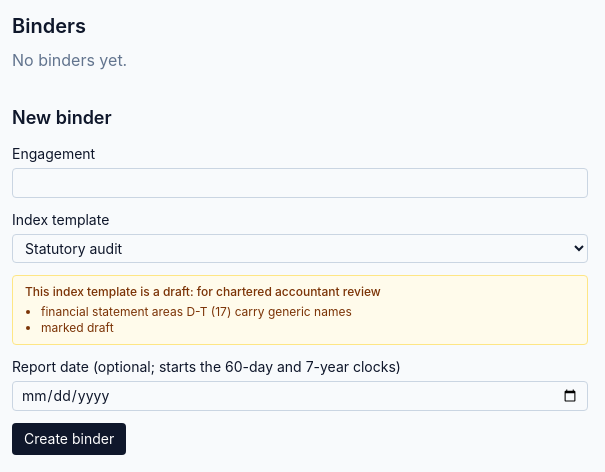
a draft template shows its placeholders on the creation form
This screenshot has width=605, height=472.
Expected: the text "No binders yet." is shown, left=12, top=50, right=127, bottom=70
Expected: the element with test id "template-draft" shows "This index template is a draft: for chartered accountant review", left=12, top=275, right=588, bottom=345
Select "Tax audit" in the dropdown labelled "Index template": (300, 248) left=12, top=234, right=588, bottom=263
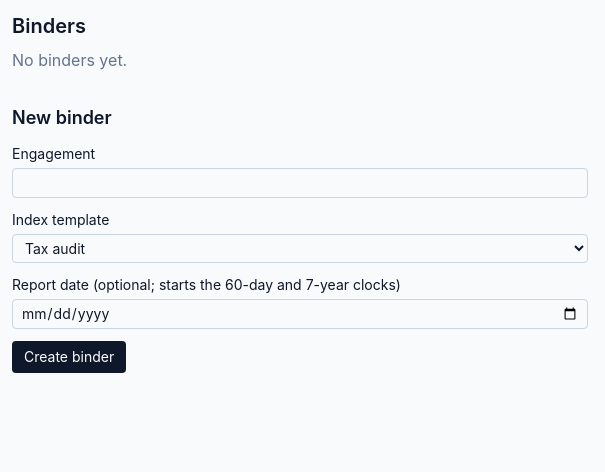
Now the element with test id "template-draft" is gone
